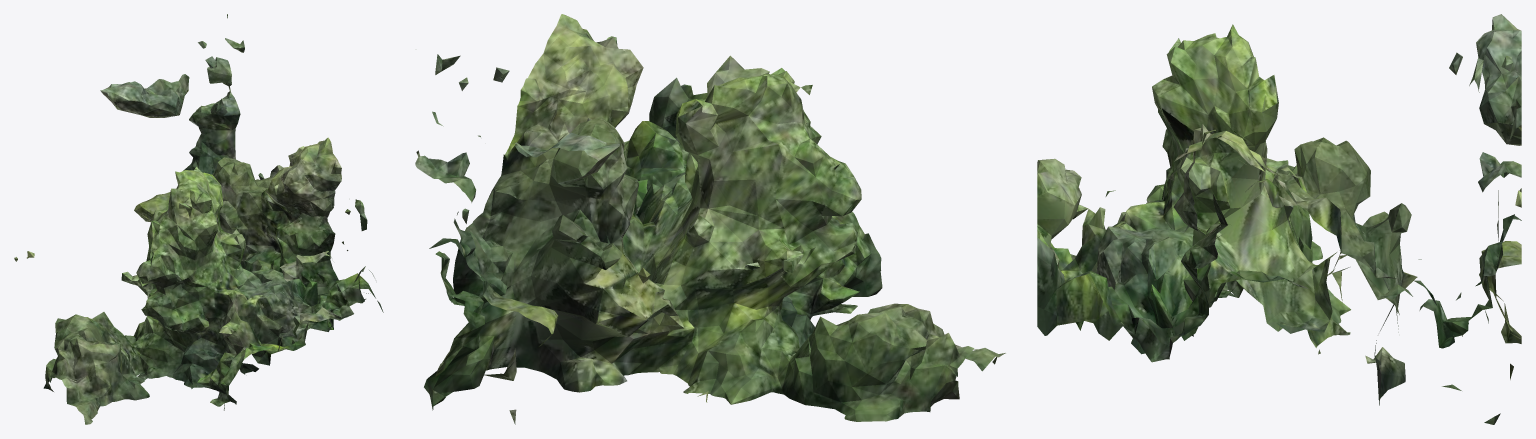
3 views of the same model, side by side, from view 1: azimuth 30°, elevation 25°; view 2: azimuth 150°, elevation 25°; view 3: azimuth 270°, elevation 25° (orthographic). The views are drawn at different scales.
Size of the model in its own units: 26.11 by 22.34 by 26.11.
5 materials, 5 textured.
